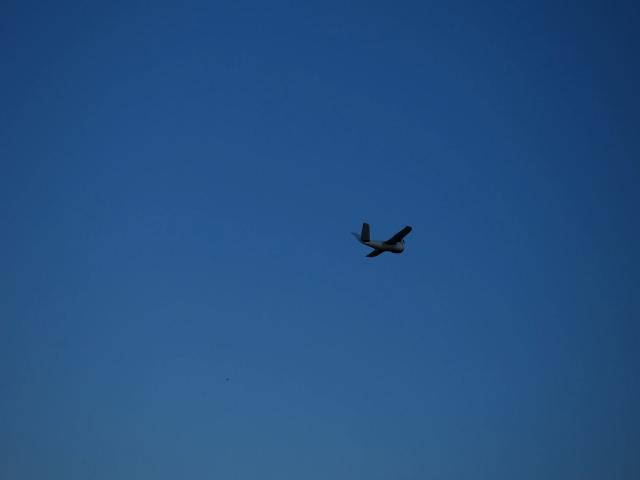plane: (352, 222, 414, 259)
